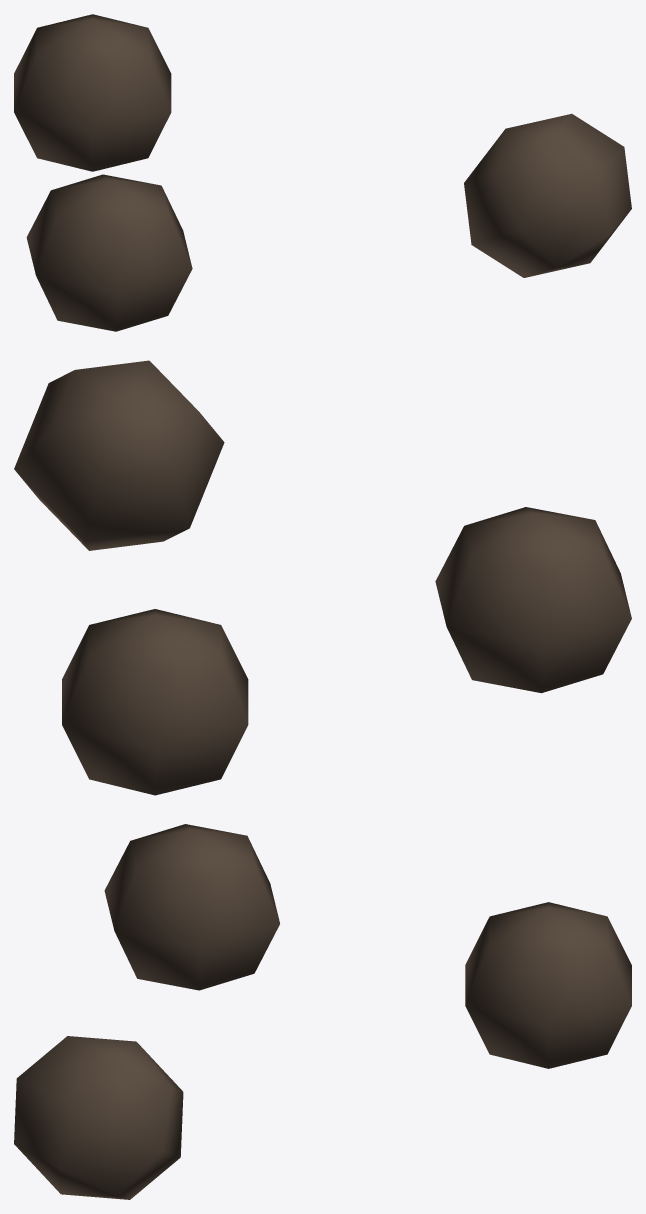
The model's file is mdl_coconutPile02.fbx.
3 renders of one model, top to bottom at view 1: azimuth 30°, elevation 25°; view 2: azimuth 150°, elevation 25°; view 3: azimuth 270°, elevation 25°, orthographic. The views are drawn at different scales.
Parts seen in each view (by area): view 1: mdl_coconutPile03; view 2: mdl_coconutPile03; view 3: mdl_coconutPile03.
Boxes of the visible parts, bbox=[...] form: mdl_coconutPile03: bbox=[14, 14, 631, 331]; mdl_coconutPile03: bbox=[14, 360, 631, 795]; mdl_coconutPile03: bbox=[14, 824, 631, 1199].
Bounding box in the file's own units: 73.02 × 19.61 × 68.3.
1 material, 1 textured.
